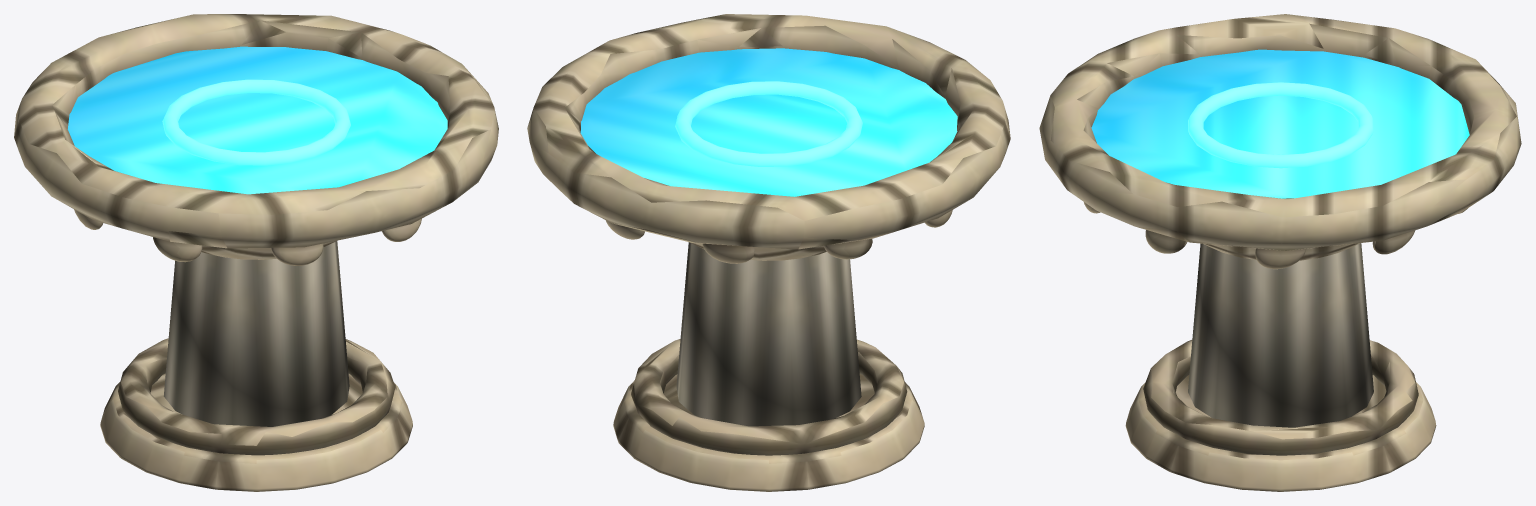
The model's file is g_prop_pensieve.glb.
3 views of the same model, side by side, from view 1: azimuth 30°, elevation 25°; view 2: azimuth 150°, elevation 25°; view 3: azimuth 270°, elevation 25° (orthographic).
Parts seen in each view (by area): view 1: PenThickRim, PenVortexPool, PenFlutedCol, PenBase1, PenBaseTorus, PenSwirlInner, PenRuneCarve_7, PenBowlLower, PenRuneCarve_6; view 2: PenThickRim, PenVortexPool, PenFlutedCol, PenBase1, PenBaseTorus, PenSwirlInner, PenBowlLower, PenRuneCarve_3, PenRuneCarve_4; view 3: PenThickRim, PenVortexPool, PenFlutedCol, PenBase1, PenBaseTorus, PenSwirlInner, PenBowlLower, PenRuneCarve_0, PenRuneCarve_9, PenRuneCarve_1.
Boxes of the visible parts, x1,y1,x2,y2 form: PenThickRim: [14, 14, 498, 248]; PenVortexPool: [67, 46, 447, 194]; PenFlutedCol: [163, 241, 349, 426]; PenBase1: [100, 373, 412, 491]; PenBaseTorus: [118, 338, 395, 455]; PenSwirlInner: [162, 79, 350, 165]; PenRuneCarve_7: [271, 243, 323, 265]; PenBowlLower: [201, 240, 337, 259]; PenRuneCarve_6: [153, 237, 202, 262]; PenThickRim: [527, 14, 1010, 249]; PenVortexPool: [580, 48, 957, 196]; PenFlutedCol: [676, 242, 861, 426]; PenBase1: [613, 374, 924, 491]; PenBaseTorus: [631, 339, 907, 455]; PenSwirlInner: [675, 81, 862, 166]; PenBowlLower: [690, 242, 826, 260]; PenRuneCarve_3: [702, 243, 754, 263]; PenRuneCarve_4: [824, 239, 872, 259]; PenThickRim: [1039, 14, 1521, 250]; PenVortexPool: [1091, 49, 1469, 198]; PenFlutedCol: [1188, 243, 1373, 427]; PenBase1: [1125, 375, 1436, 491]; PenBaseTorus: [1143, 340, 1418, 455]; PenSwirlInner: [1188, 82, 1373, 168]; PenBowlLower: [1203, 243, 1360, 260]; PenRuneCarve_0: [1255, 248, 1306, 269]; PenRuneCarve_9: [1145, 230, 1187, 253]; PenRuneCarve_1: [1372, 230, 1415, 254].
Bounding box in the file's own units: 1.35 × 0.9873 × 1.35.
4 materials, 3 textured.
